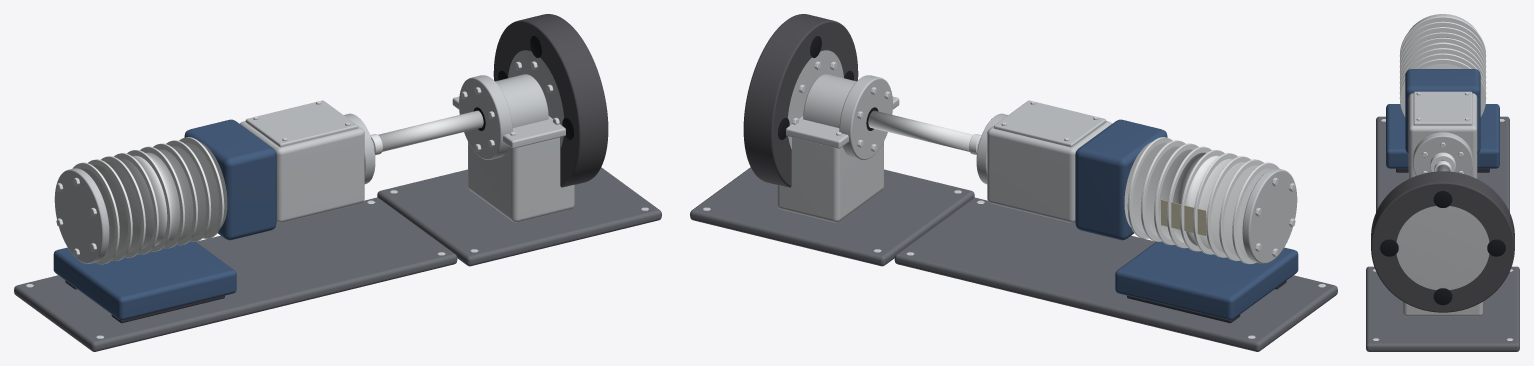
Rendered from connector_snap_assembly.glb.
3 renders of one model, left to right at view 1: azimuth 30°, elevation 25°; view 2: azimuth 150°, elevation 25°; view 3: azimuth 270°, elevation 25°, orthographic. The views are drawn at different scales.
Visible parts, largest first — view 1: drive baseplate, load baseplate, drive motor cradle, flywheel disk, motor steel body, reduction gearbox, motor fan shroud, load pedestal column, motor end cap, gearbox cover plate, hub bearing flange, drive shaft (+13 smaller); view 2: drive baseplate, load baseplate, drive motor cradle, flywheel disk, reduction gearbox, motor steel body, motor fan shroud, load pedestal column, motor end cap, gearbox cover plate, hub bearing flange, drive shaft (+14 smaller); view 3: flywheel disk, load baseplate, flywheel inner ring, drive motor cradle, drive baseplate, motor fan shroud, gearbox cover plate, reduction gearbox, gearbox output flange, load pedestal column, motor fin 9, motor fin 4 (+14 smaller).
Boxes of the visible parts, x1,y1,x2,y2 form: drive baseplate: (14,197,457,351); load baseplate: (377,167,661,266); drive motor cradle: (53,241,236,320); flywheel disk: (493,14,608,187); motor steel body: (80,142,227,258); reduction gearbox: (240,121,364,222); motor fan shroud: (184,119,276,240); load pedestal column: (468,137,574,222); motor end cap: (54,168,109,263); gearbox cover plate: (245,100,357,147); hub bearing flange: (459,75,512,159); drive shaft: (372,110,483,151); drive baseplate: (894,197,1337,351); load baseplate: (690,167,974,266); drive motor cradle: (1115,241,1298,320); flywheel disk: (743,14,858,187); reduction gearbox: (987,121,1111,222); motor steel body: (1124,142,1271,258); motor fan shroud: (1075,119,1167,240); load pedestal column: (777,137,883,222); motor end cap: (1242,168,1297,263); gearbox cover plate: (994,100,1106,147); hub bearing flange: (839,75,892,159); drive shaft: (868,110,979,151); flywheel disk: (1371,171,1514,312); load baseplate: (1366,266,1519,351); flywheel inner ring: (1396,206,1489,290); drive motor cradle: (1386,104,1499,168); drive baseplate: (1376,116,1509,212); motor fan shroud: (1405,69,1480,153); gearbox cover plate: (1413,91,1472,125); reduction gearbox: (1408,93,1477,178); gearbox output flange: (1413,132,1472,175); load pedestal column: (1403,302,1482,316); motor fin 9: (1399,59,1486,116); motor fin 4: (1399,32,1486,71).
Bounding box in the file's own units: 1.62 × 0.493 × 0.46.
